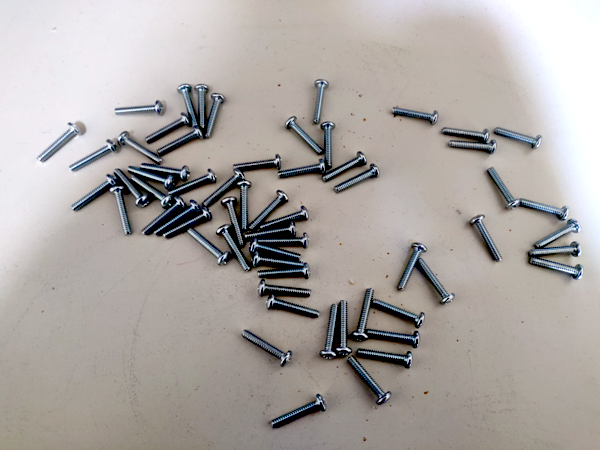longscrew: (239, 329, 295, 367), (350, 355, 391, 405), (269, 398, 329, 429), (486, 165, 522, 214), (414, 260, 455, 303), (36, 124, 81, 163), (471, 213, 506, 263), (69, 176, 117, 212), (167, 209, 211, 246), (186, 231, 231, 267), (140, 198, 184, 234), (155, 199, 199, 235), (200, 172, 249, 204), (394, 242, 428, 288), (116, 131, 162, 164), (532, 258, 586, 286), (69, 138, 114, 171), (374, 299, 427, 327), (357, 347, 415, 372), (363, 330, 421, 355), (219, 224, 249, 271), (250, 191, 289, 227), (130, 176, 173, 208), (534, 221, 584, 248), (336, 163, 382, 192), (168, 170, 215, 197), (284, 117, 320, 152), (115, 169, 147, 207), (159, 126, 202, 154), (147, 114, 187, 144), (323, 152, 365, 180), (496, 124, 543, 148), (523, 197, 570, 221), (111, 187, 134, 236), (259, 206, 314, 226), (225, 198, 246, 248), (320, 305, 339, 360), (355, 286, 374, 341), (251, 252, 305, 271), (250, 243, 303, 262), (259, 261, 312, 280), (259, 279, 312, 298), (268, 298, 321, 317), (334, 300, 352, 355), (128, 168, 174, 189), (144, 162, 190, 183), (189, 84, 211, 127), (208, 92, 230, 135), (176, 83, 198, 125), (318, 121, 339, 164), (312, 79, 333, 121), (280, 160, 329, 177), (256, 234, 315, 248), (112, 99, 166, 114), (234, 157, 283, 173), (389, 107, 438, 123), (441, 126, 490, 142), (450, 141, 498, 157), (243, 224, 302, 237), (524, 246, 584, 256)
